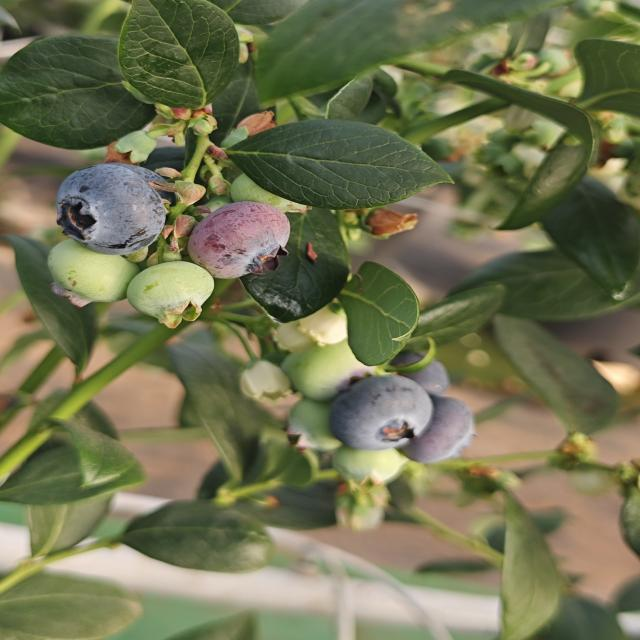ripe: (53, 162, 168, 249), (319, 368, 423, 448), (187, 196, 287, 276), (122, 136, 216, 202), (413, 392, 472, 462), (402, 360, 458, 407)
